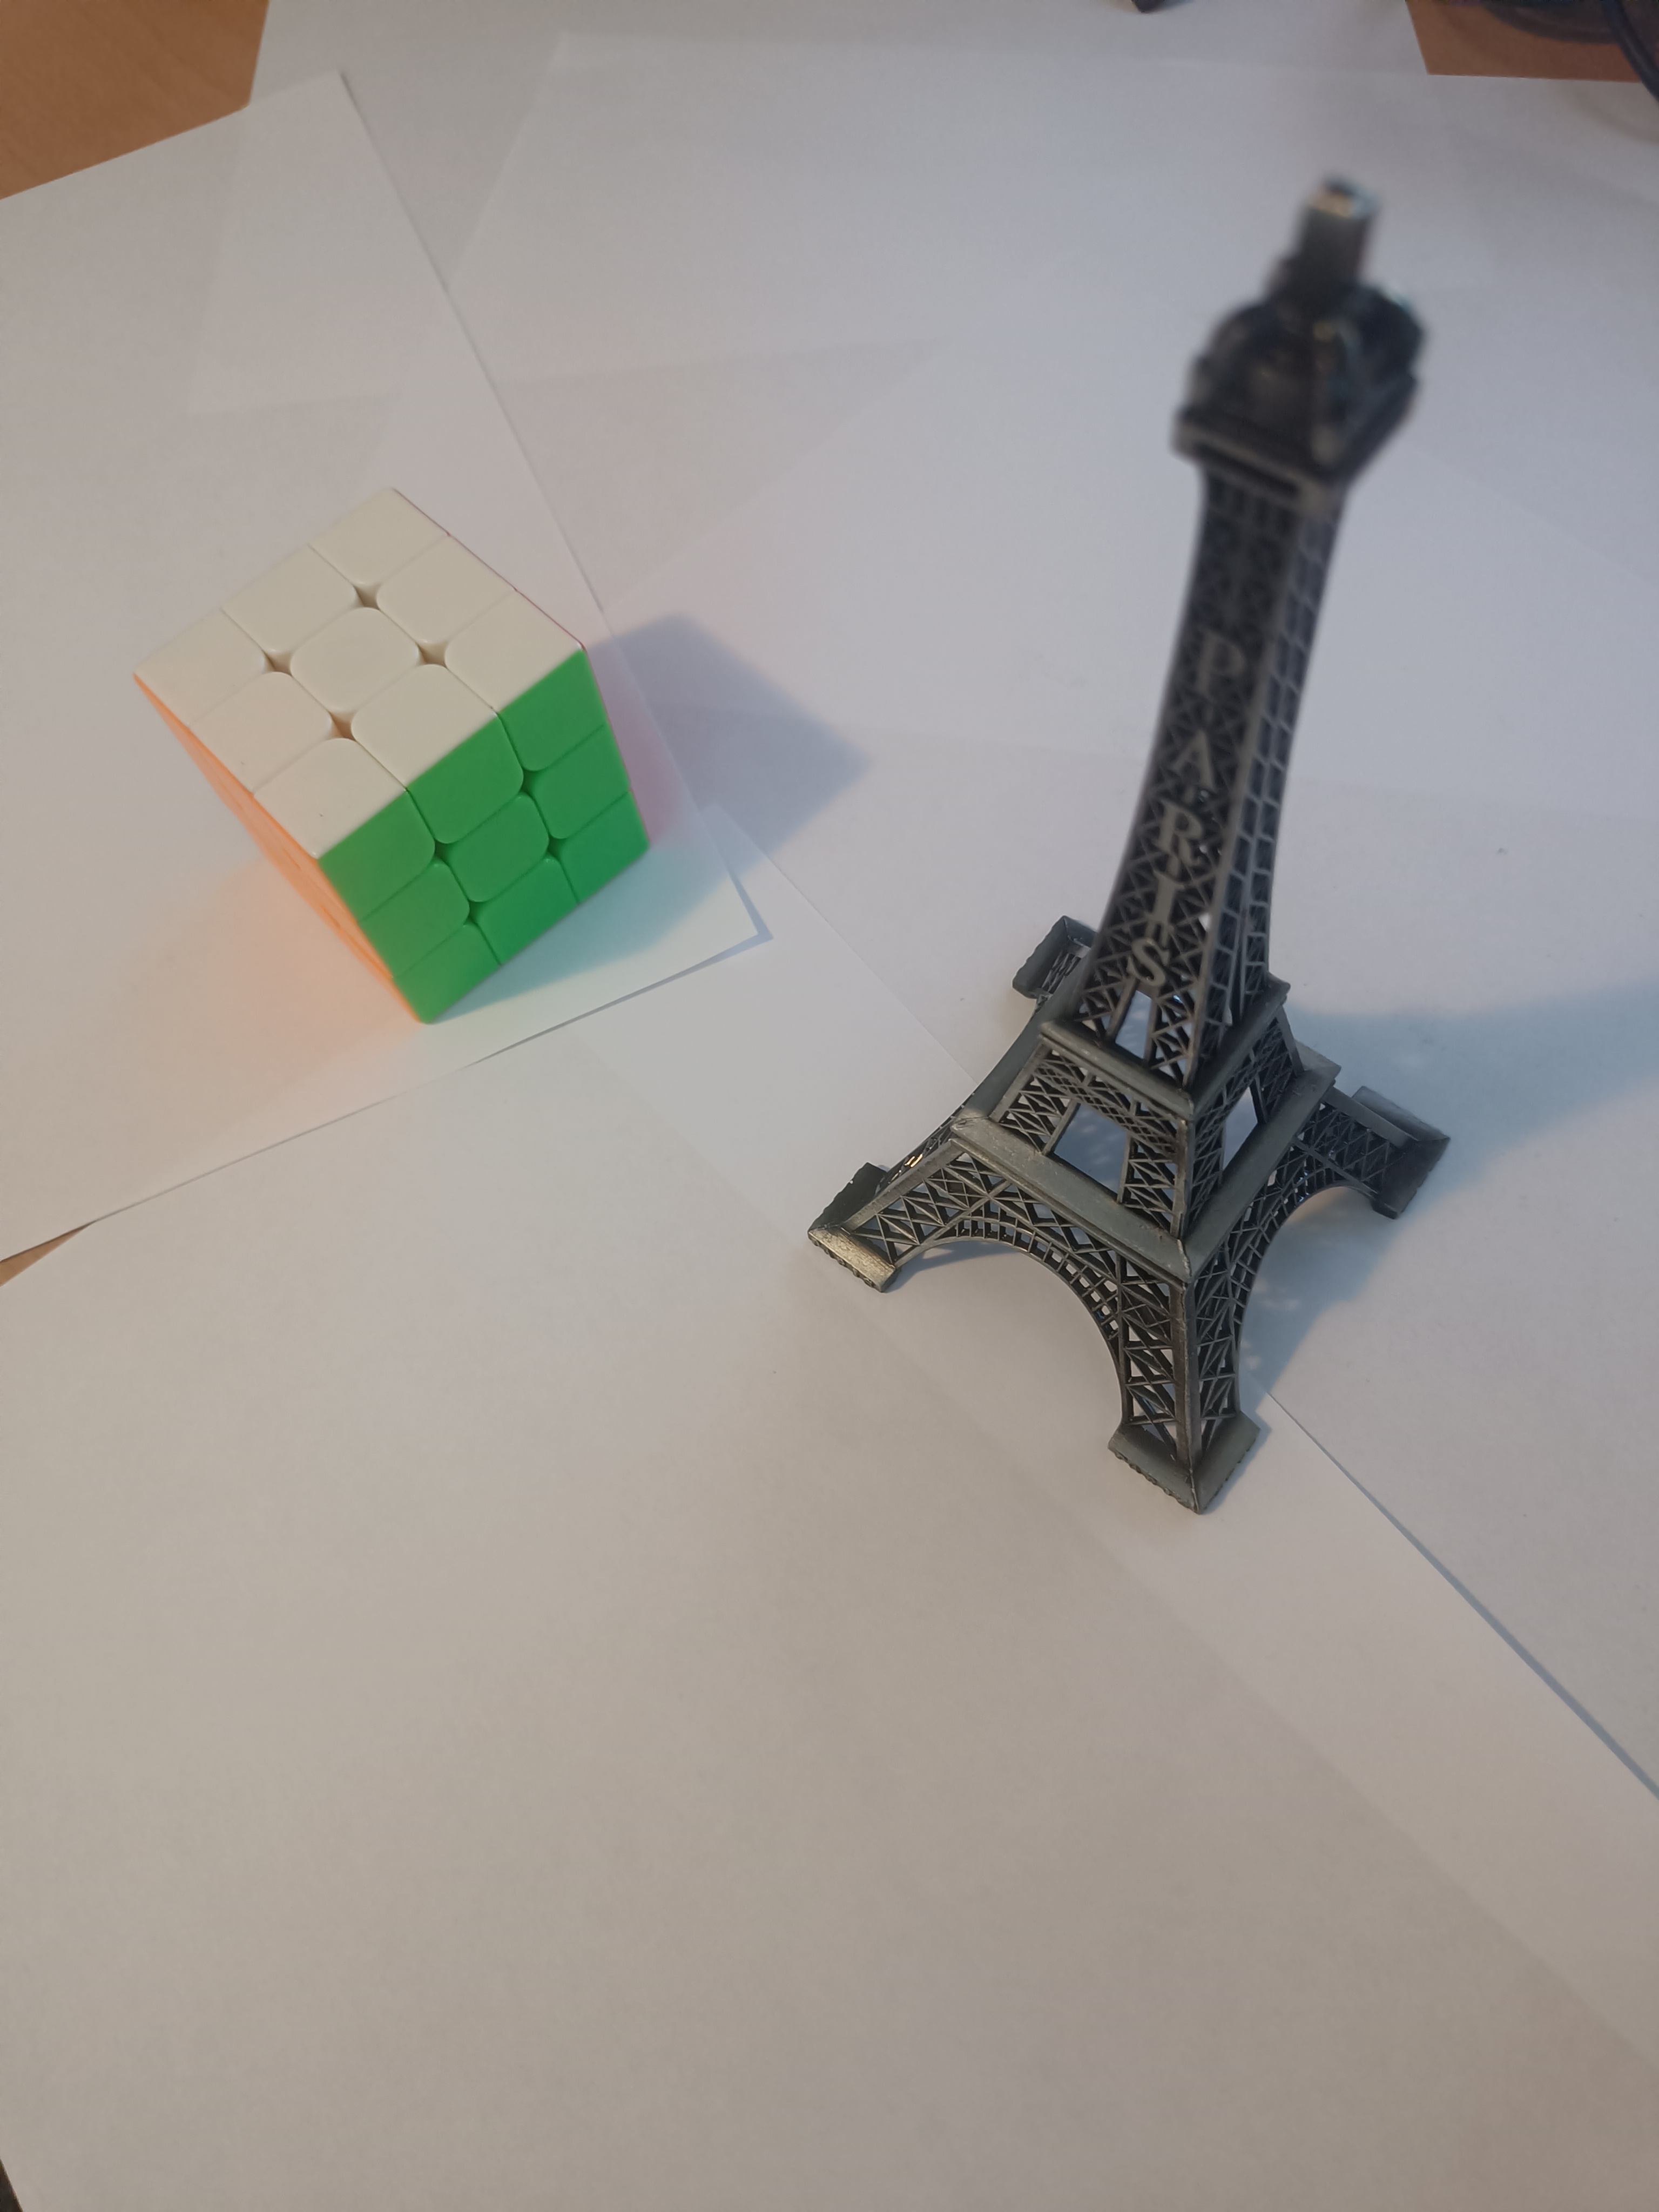Eiffel Tower: (802, 162, 1436, 1521)
Rubiks Cube: (131, 484, 660, 1036)
